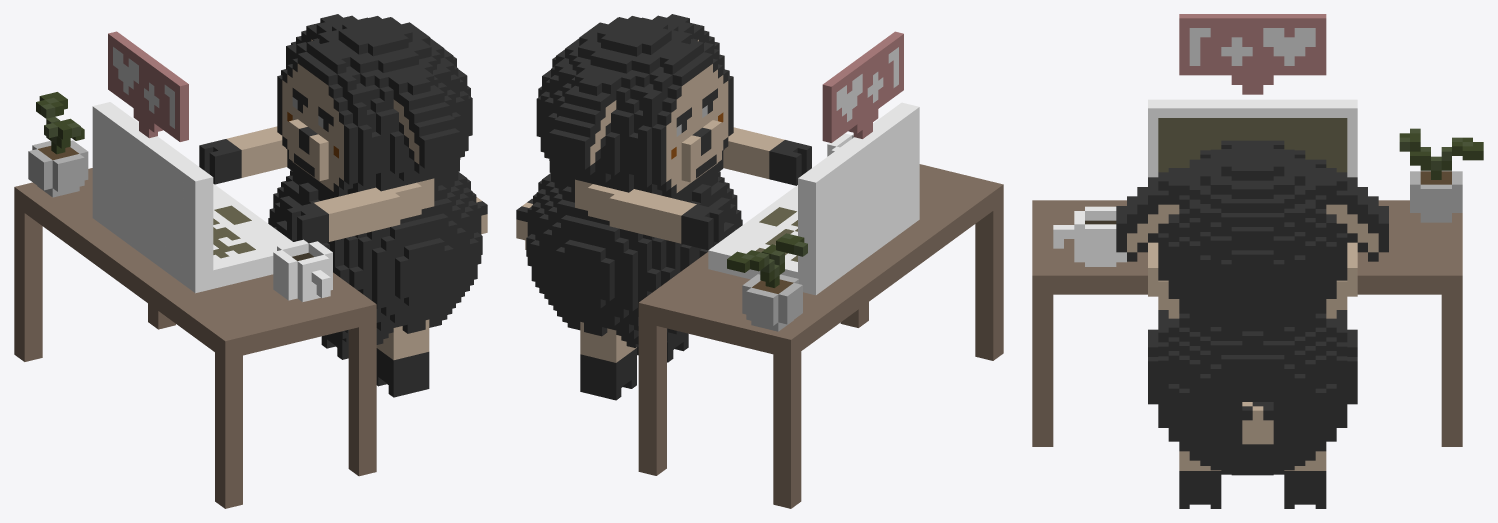
Rendered from sheep.glb.
3 views of the same model, side by side, from view 1: azimuth 30°, elevation 25°; view 2: azimuth 150°, elevation 25°; view 3: azimuth 270°, elevation 25° (orthographic). The views are drawn at different scales.
Visible parts, largest first — view 1: Untitled; view 2: Untitled; view 3: Untitled.
Boxes of the visible parts, box(x1,y1,x2,y2) form: Untitled: box(14, 14, 487, 508); Untitled: box(516, 14, 1003, 508); Untitled: box(1032, 14, 1483, 508).
Size of the model in its own units: 4.1 by 3.9 by 4.3.
1 material, 1 textured.
